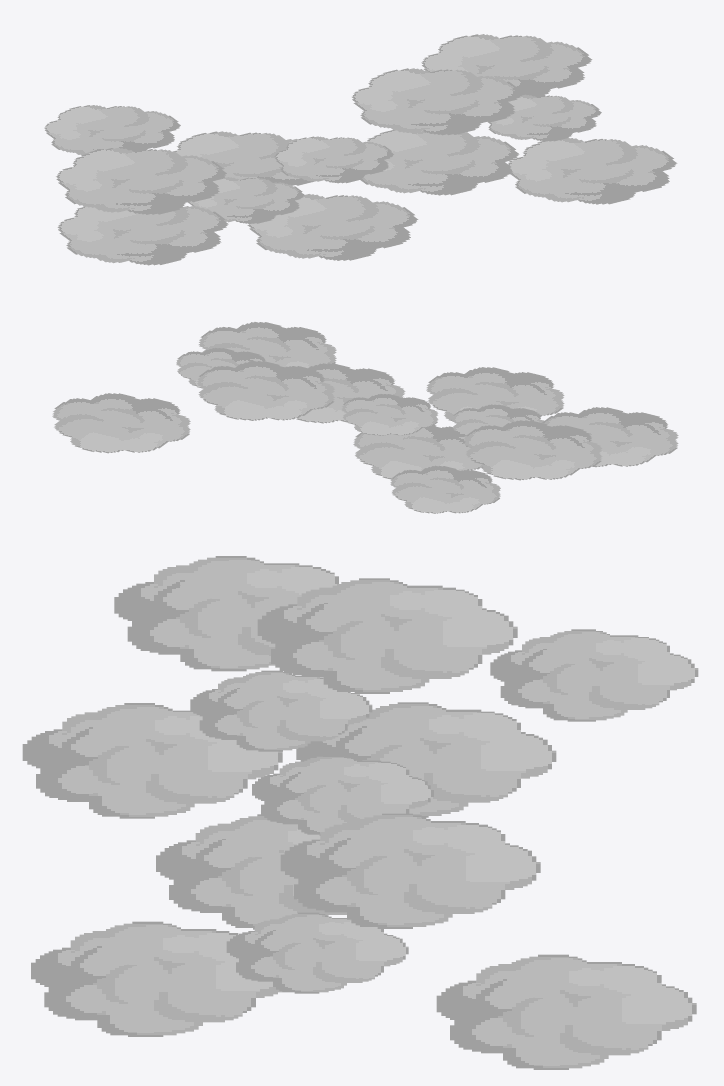
The picture shows the model from 3 angles, top to bottom: view 1: azimuth 30°, elevation 25°; view 2: azimuth 150°, elevation 25°; view 3: azimuth 270°, elevation 25°; orthographic projection. The views are drawn at different scales.
Visible parts, largest first — view 1: polygon8, polygon6, polygon9, polygon5, polygon4, polygon7, polygon11, polygon3, polygon1, polygon0, polygon10, polygon2; view 2: polygon6, polygon8, polygon11, polygon5, polygon4, polygon0, polygon9, polygon3, polygon1, polygon7, polygon2, polygon10; view 3: polygon11, polygon6, polygon8, polygon5, polygon9, polygon4, polygon0, polygon3, polygon7, polygon10, polygon2, polygon1.
Boxes of the visible parts, x1,y1,x2,y2 form: polygon8: (352,68,522,135); polygon6: (56,147,226,214); polygon9: (508,138,677,204); polygon5: (247,194,418,260); polygon4: (57,206,228,265); polygon7: (360,130,519,195); polygon11: (421,34,592,97); polygon3: (44,105,180,155); polygon1: (274,136,393,183); polygon0: (172,131,313,185); polygon10: (488,94,601,141); polygon2: (188,177,304,223); polygon6: (464,420,602,480); polygon8: (197,361,334,420); polygon11: (52,393,190,453); polygon5: (426,367,564,420); polygon4: (542,407,678,467); polygon0: (353,425,483,479); polygon9: (198,322,336,368); polygon3: (390,465,500,513); polygon1: (342,394,438,435); polygon7: (296,363,405,423); polygon2: (452,404,544,439); polygon10: (176,348,265,388); polygon11: (436,954,696,1069); polygon6: (257,578,517,693); polygon8: (280,813,540,928); polygon5: (22,703,282,818); polygon9: (31,921,282,1036); polygon4: (114,556,338,671); polygon0: (296,702,556,817); polygon3: (490,629,698,721); polygon7: (156,814,346,929); polygon10: (226,912,408,993); polygon2: (190,670,372,751); polygon1: (252,755,433,835).
Bounding box in the file's own units: 32.28 × 1.53 × 19.74.
1 material, 1 textured.
